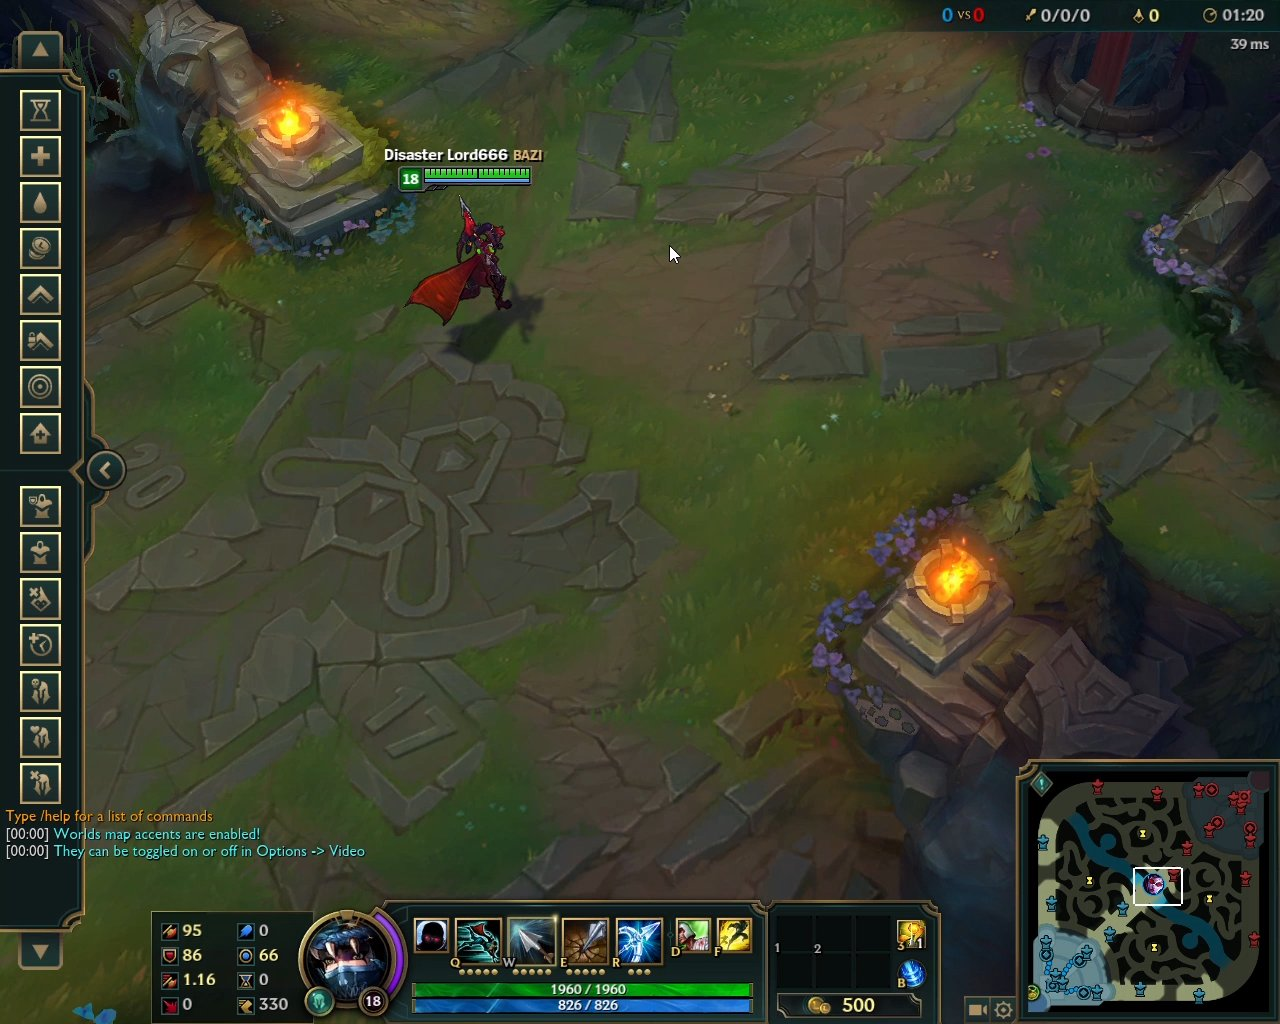Vayne: (400, 194, 518, 329)
